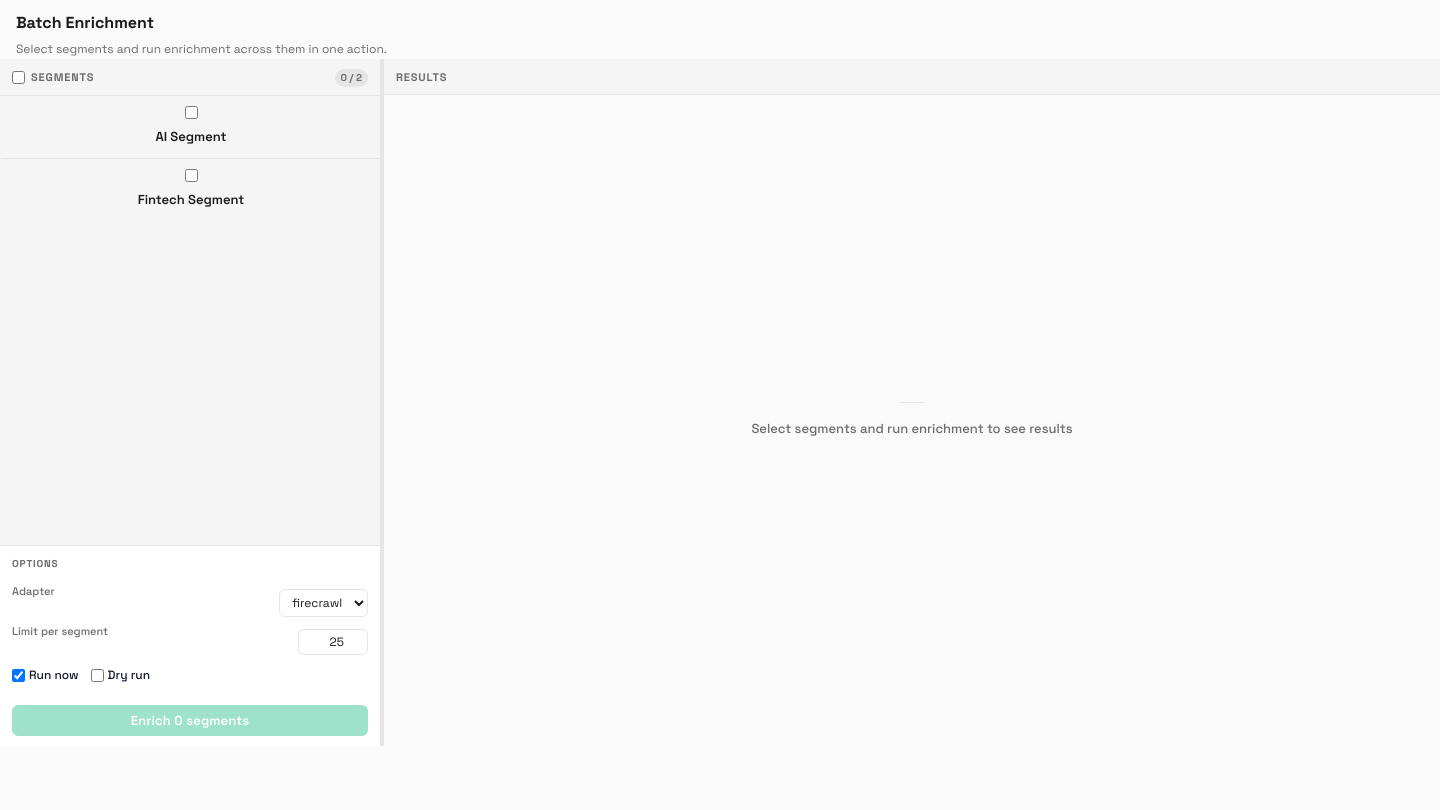
Test case: EnrichmentWorkspacePage › shows error on total failure
expect the text "AI Segment" is shown: met, box [155,127,226,148]
Click the checkbox named "Select all segments": [18, 78] box [12,71,25,84]
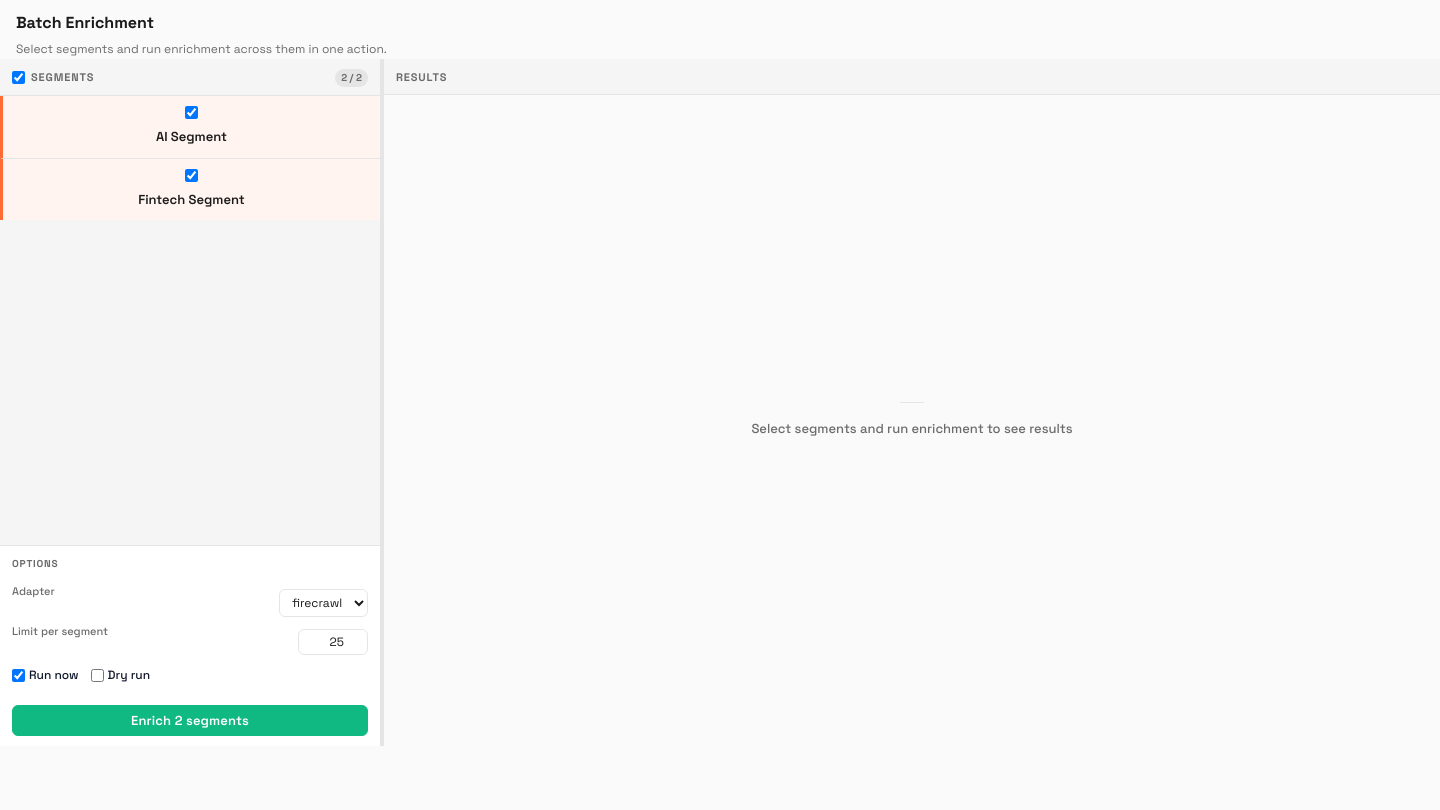
Click the button with aria-label "Run batch enrichment": [190, 720] box [12,705,368,736]
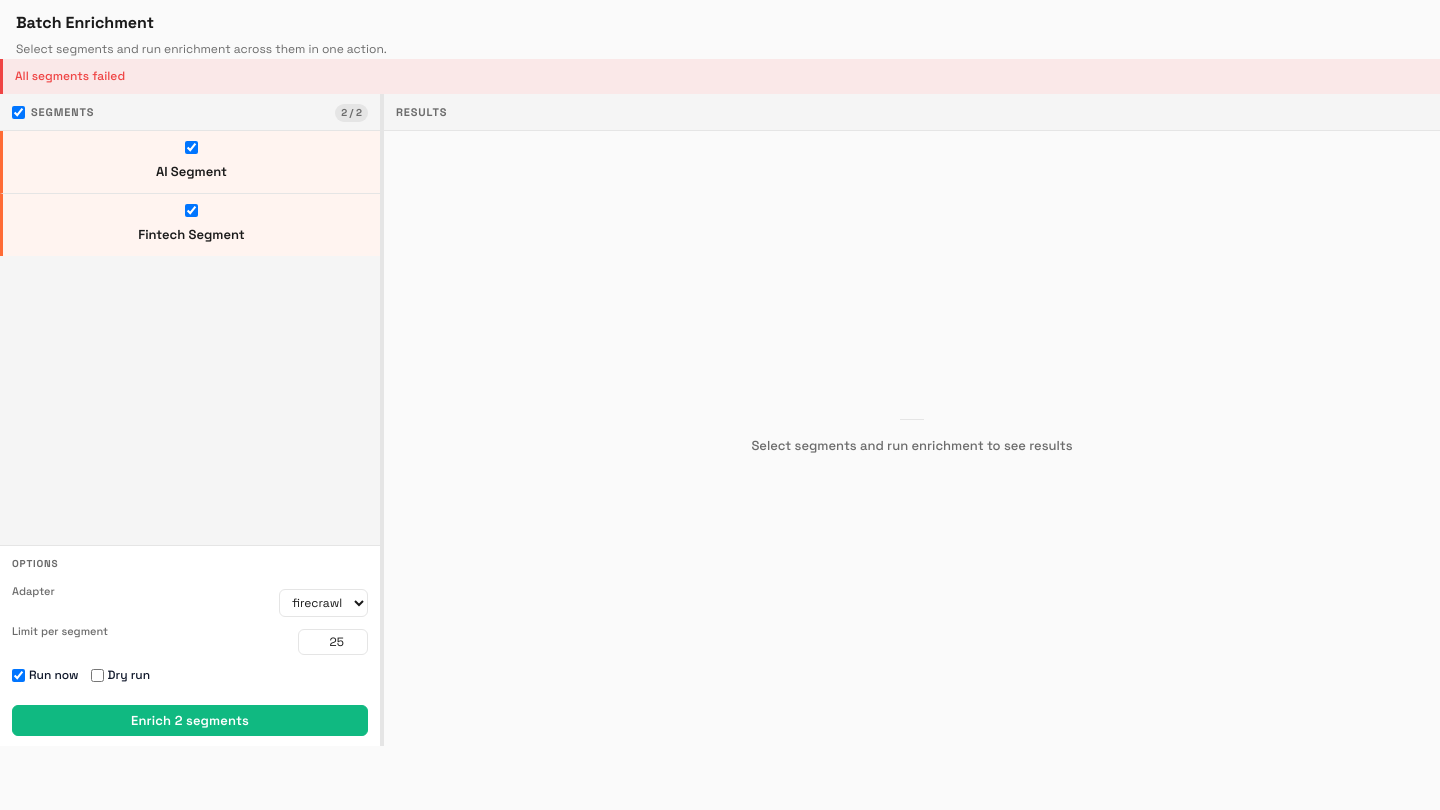
expect the text "All segments failed" is shown: met, box [0,59,1439,94]
